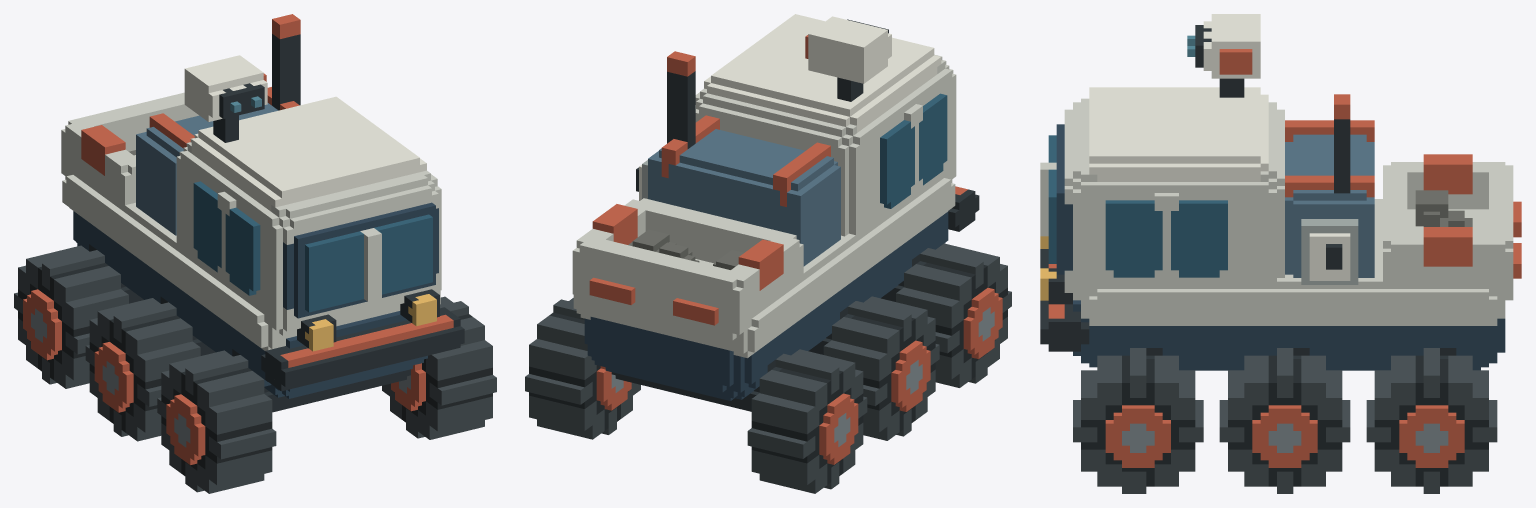
File: exploration_rover.glb
3 views of the same model, side by side, from view 1: azimuth 30°, elevation 25°; view 2: azimuth 150°, elevation 25°; view 3: azimuth 270°, elevation 25° (orthographic). The views are drawn at different scales.
Parts seen in each view (by area): view 1: exploration_rover; view 2: exploration_rover; view 3: exploration_rover.
Part boxes in pixels (bbox=[...]): exploration_rover: bbox=[14, 14, 496, 493]; exploration_rover: bbox=[525, 14, 1011, 493]; exploration_rover: bbox=[1040, 14, 1521, 493].
Bounding box in the file's own units: 2.94 × 3.5 × 4.13.
